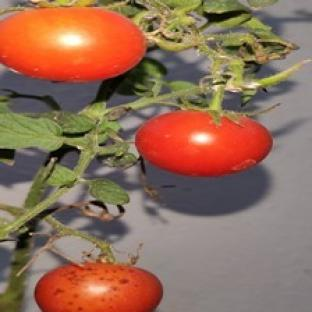Tomato: (0, 7, 146, 82), (136, 111, 272, 176), (35, 262, 162, 311)
